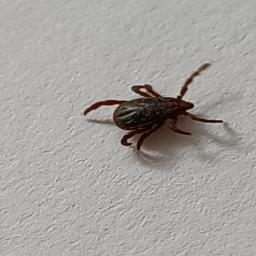Rhipicephalus sanguineus: (83, 62, 223, 151)
